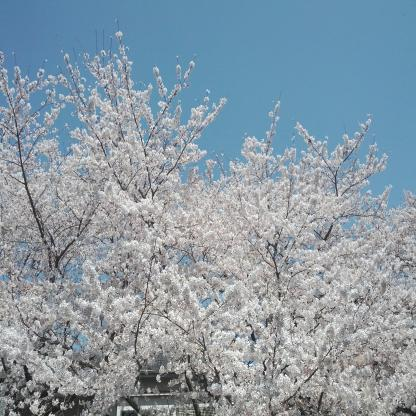Someiyoshino: (3, 34, 414, 413)
